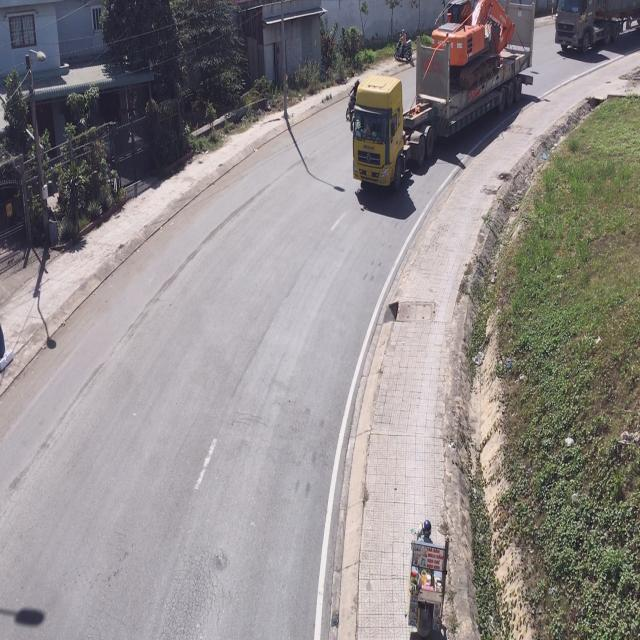motorbike: (407, 516, 447, 630), (394, 30, 413, 62)
truck: (348, 4, 536, 193), (554, 0, 638, 58)
